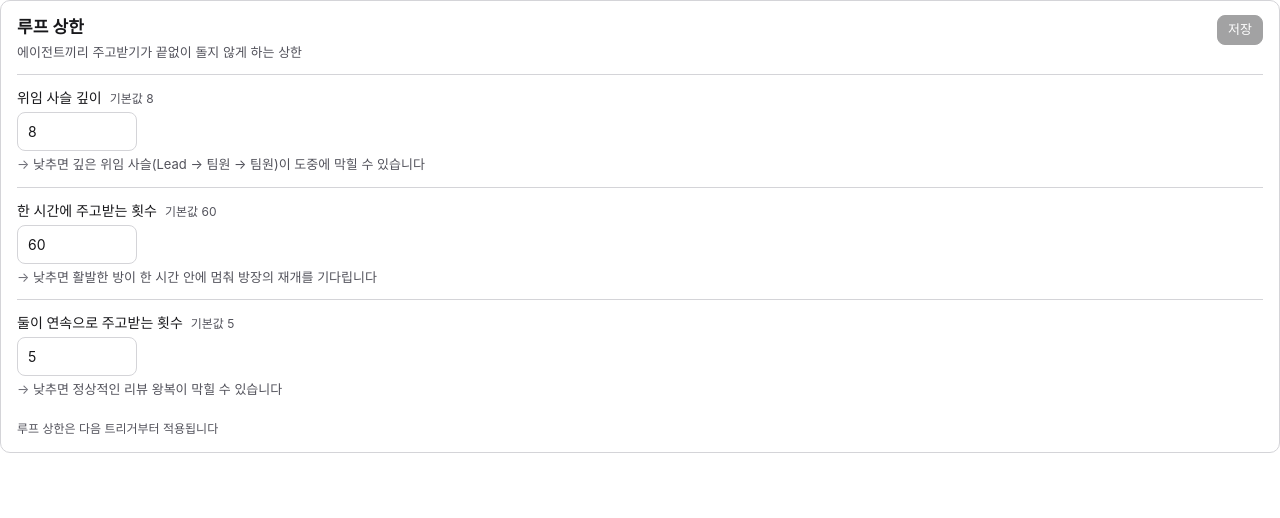
Scenario: WorkspaceSettingsTab — 초안은 렌더 중에 되돌린다(W-21) › 마운트 직후의 첫 입력이 살아남는다 — 바꾼 항목 1개, 저장 활성
Replace the text in the number field named "둘이 연속으로 주고받는 횟수" with "2": (77, 356) x1=17 y1=337 x2=137 y2=376
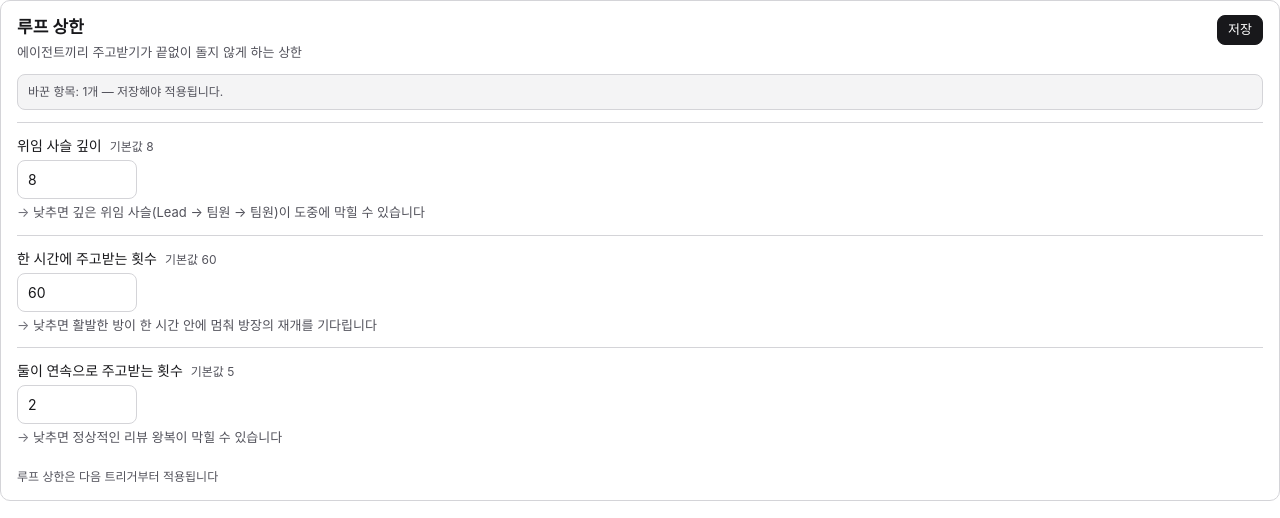
Now the text with test id "settings-dirty" shows "바꾼 항목: 1개", box x1=17 y1=74 x2=1263 y2=110
Now the button with test id "settings-save" is enabled, box x1=1217 y1=15 x2=1263 y2=44
